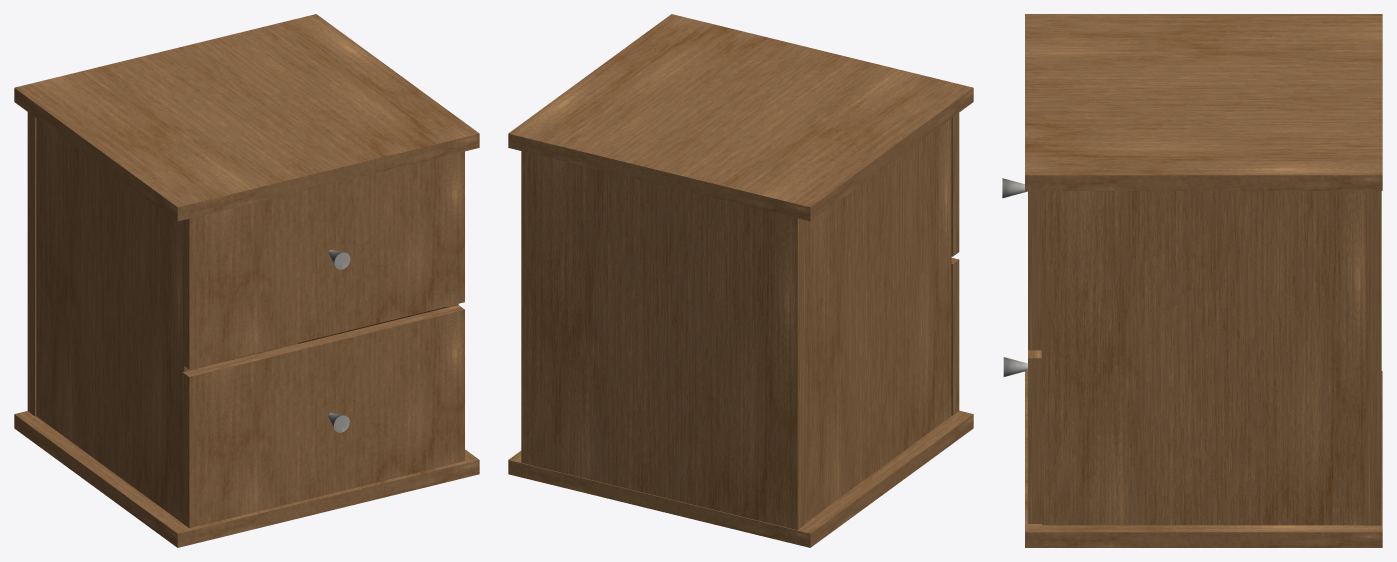
The model's file is drawer.FBX.
3 views of the same model, side by side, from view 1: azimuth 30°, elevation 25°; view 2: azimuth 150°, elevation 25°; view 3: azimuth 270°, elevation 25° (orthographic). The views are drawn at different scales.
Parts seen in each view (by area): view 1: Box006, Box007, Box008; view 2: Box006, Box007, Box008; view 3: Box006, Box007, Box008.
Boxes of the visible parts, left/top/right/bottom form: Box006: left=14, top=14, right=479, bottom=547; Box007: left=182, top=305, right=464, bottom=528; Box008: left=182, top=151, right=464, bottom=369; Box006: left=508, top=14, right=973, bottom=547; Box007: left=951, top=257, right=959, bottom=415; Box008: left=951, top=113, right=959, bottom=256; Box006: left=1025, top=14, right=1382, bottom=547; Box007: left=1028, top=350, right=1041, bottom=523; Box008: left=1028, top=191, right=1041, bottom=350.
Size of the model in its own units: 41.8 by 45.02 by 41.61.
2 materials, 2 textured.
